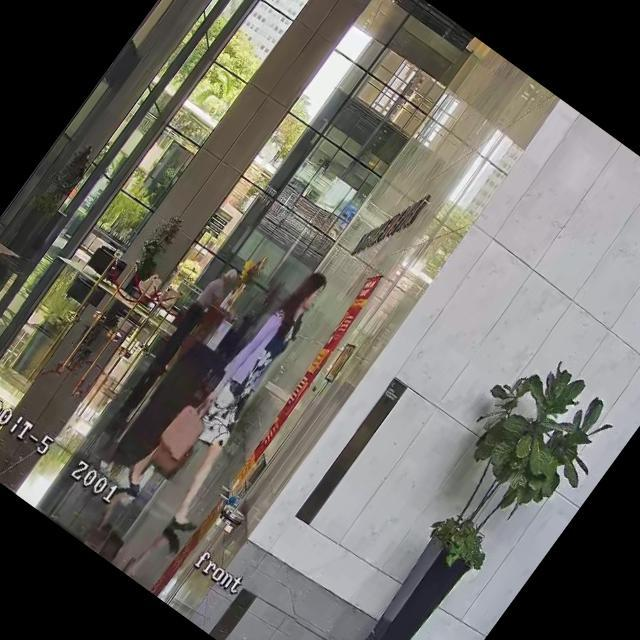person: (111, 251, 358, 546), (149, 260, 243, 376)
